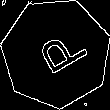P_SW: (25, 24, 87, 82)
